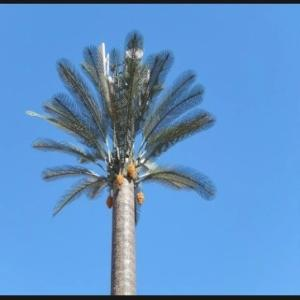palm tree: (25, 28, 216, 294)
